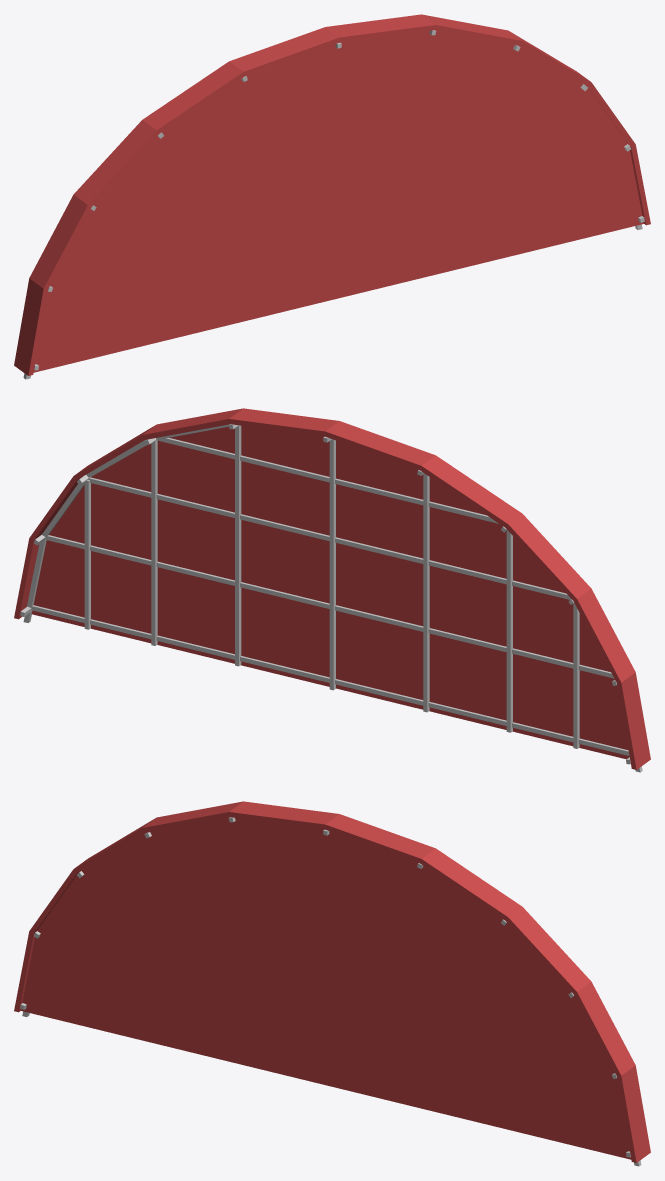
The model's file is SM_large_greenhouse.fbx.
3 renders of one model, top to bottom at view 1: azimuth 30°, elevation 25°; view 2: azimuth 150°, elevation 25°; view 3: azimuth 330°, elevation 25°, orthographic.
Parts seen in each view (by area): view 1: Boole_1; view 2: Boole_1; view 3: Boole_1.
Boxes of the visible parts, box(x1,y1,x2,y2) form: Boole_1: box(14, 14, 650, 379); Boole_1: box(14, 408, 650, 772); Boole_1: box(14, 801, 650, 1166).
Bounding box in the file's own units: 931 × 387 × 37.29.
